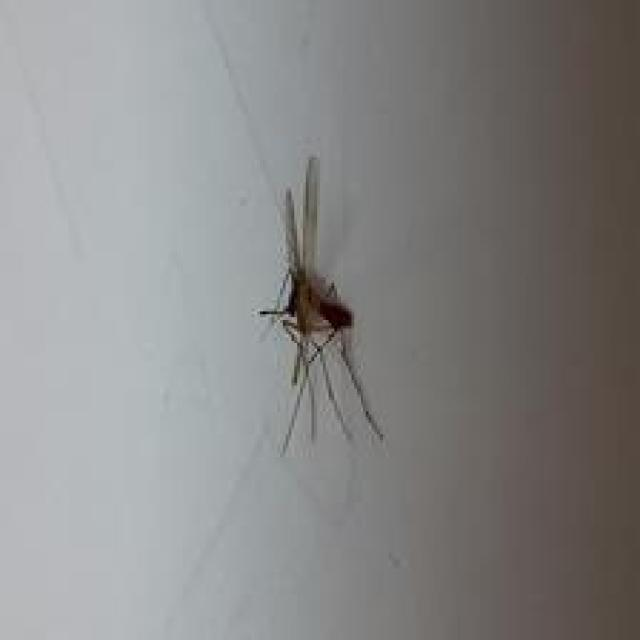Culex: (256, 154, 384, 457)
